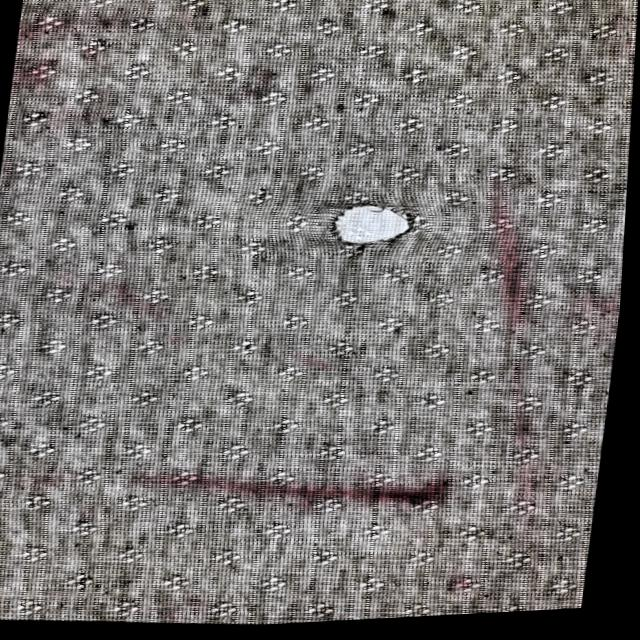Hole: (331, 189, 421, 266)
